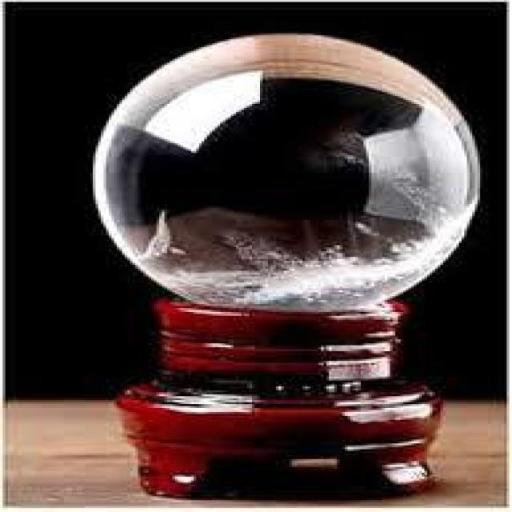glass: (75, 18, 494, 321)
